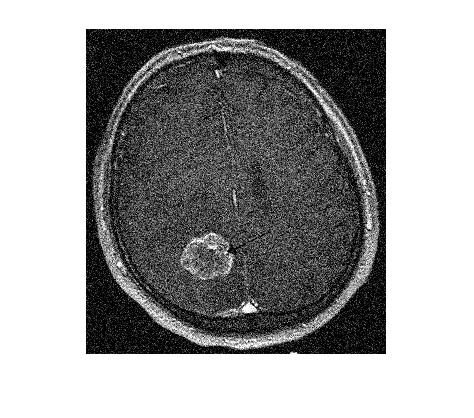Brain_Cancer: (176, 233, 235, 284)
